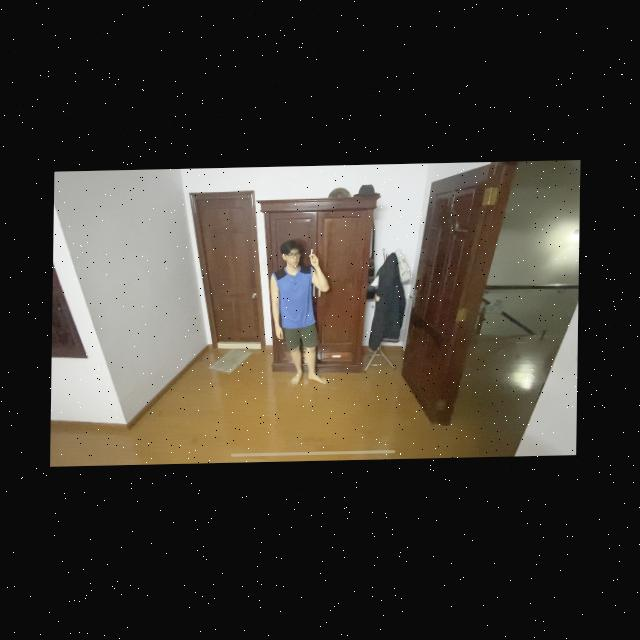cigarette: (311, 250, 315, 257)
